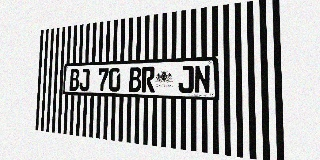0: (108, 68, 120, 92)
7: (97, 68, 109, 91)
B: (129, 67, 141, 92), (69, 69, 79, 91)
J: (178, 65, 193, 93), (79, 68, 90, 91)
N: (194, 65, 210, 94)
R: (141, 66, 155, 92)
